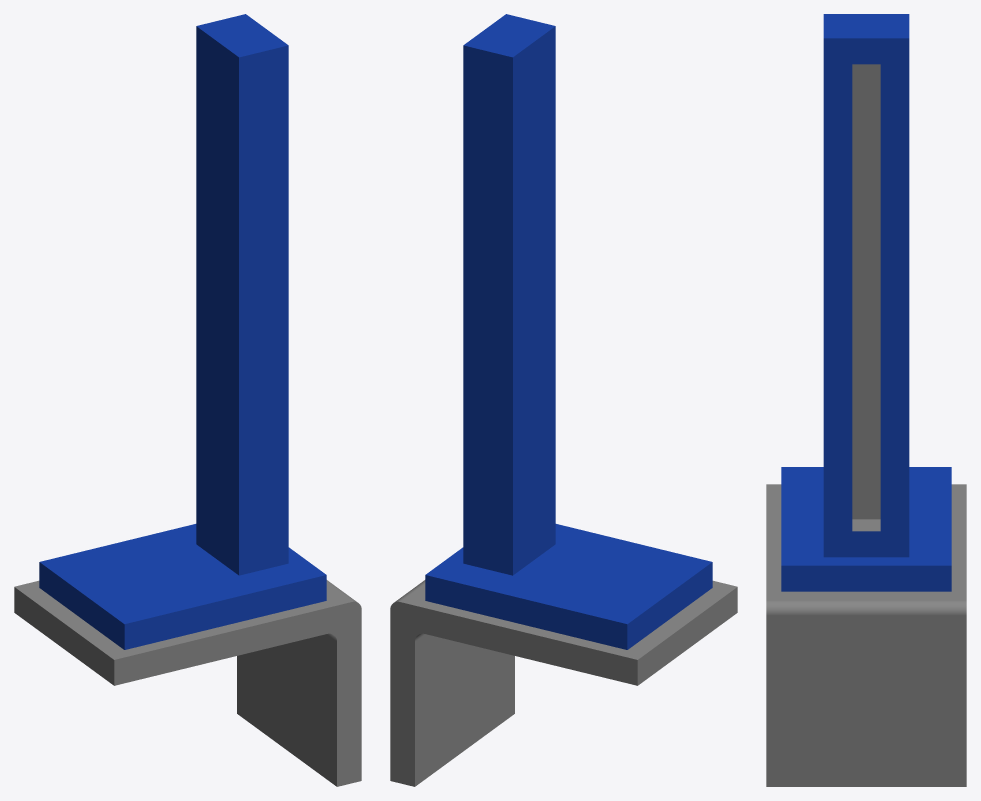
Rendered from Sensor.glb.
The picture shows the model from 3 angles, left to right: view 1: azimuth 30°, elevation 25°; view 2: azimuth 150°, elevation 25°; view 3: azimuth 270°, elevation 25°; orthographic projection.
Visible parts, largest first — view 1: Body1; view 2: Body1; view 3: Body1.
Boxes of the visible parts, left/top/right/bottom form: Body1: left=14, top=14, right=361, bottom=786; Body1: left=390, top=14, right=737, bottom=786; Body1: left=766, top=14, right=966, bottom=786.
Size of the model in its own units: 0.05 by 0.14 by 0.035.
